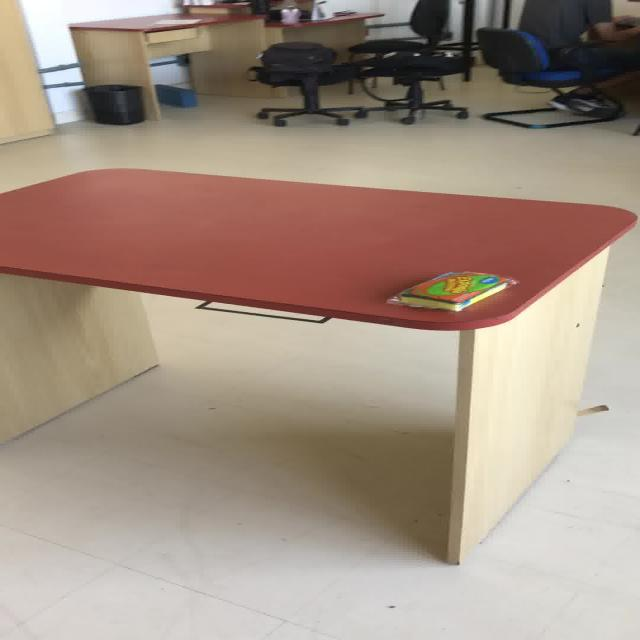sponge: (385, 270, 517, 311)
